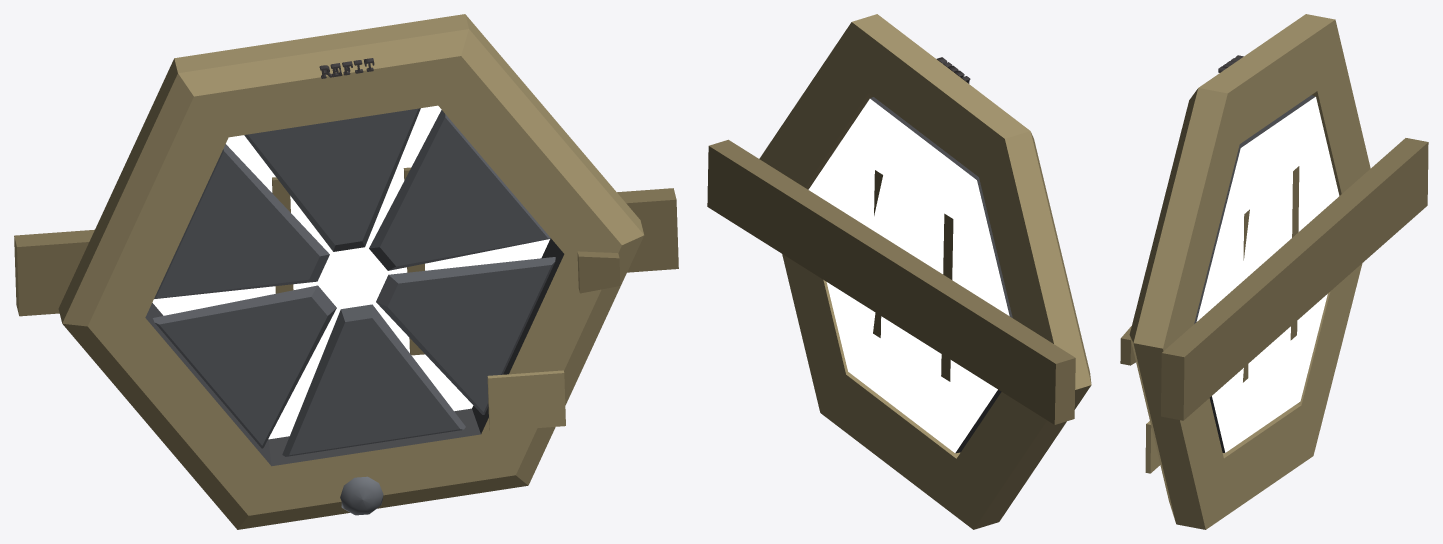
The model's file is refit.glb.
The picture shows the model from 3 angles, left to right: view 1: azimuth 30°, elevation 25°; view 2: azimuth 150°, elevation 25°; view 3: azimuth 270°, elevation 25°; orthographic projection. The views are drawn at different scales.
Visible parts, largest first — view 1: dnsm_refit_frame, dnsm_refit_leaf_4, dnsm_refit_leaf_3, dnsm_refit_leaf_5, dnsm_refit_leaf_0, dnsm_refit_leaf_2, dnsm_refit_leaf_1, dnsm_refit_glow, dnsm_refit_srail, dnsm_refit_throat, dnsm_refit_tally, dnsm_refit_detent (+1 smaller); view 2: dnsm_refit_frame, dnsm_refit_glow, dnsm_refit_srail, dnsm_refit_throat, dnsm_refit_guide_0; view 3: dnsm_refit_frame, dnsm_refit_srail, dnsm_refit_glow, dnsm_refit_throat, dnsm_refit_guide_0, dnsm_refit_tally, dnsm_refit_detent.
Boxes of the visible parts, x1,y1,x2,y2 form: dnsm_refit_frame: [58, 14, 644, 529]; dnsm_refit_leaf_4: [282, 304, 465, 456]; dnsm_refit_leaf_3: [153, 285, 336, 448]; dnsm_refit_leaf_5: [376, 257, 555, 414]; dnsm_refit_leaf_0: [369, 110, 550, 270]; dnsm_refit_leaf_2: [154, 144, 329, 298]; dnsm_refit_leaf_1: [244, 108, 420, 251]; dnsm_refit_glow: [152, 105, 549, 439]; dnsm_refit_srail: [14, 188, 678, 316]; dnsm_refit_throat: [145, 239, 564, 466]; dnsm_refit_tally: [487, 370, 565, 431]; dnsm_refit_detent: [577, 251, 620, 293]; dnsm_refit_frame: [759, 14, 1091, 529]; dnsm_refit_glow: [808, 99, 1009, 452]; dnsm_refit_srail: [707, 139, 1075, 424]; dnsm_refit_throat: [870, 97, 1012, 453]; dnsm_refit_guide_0: [941, 213, 953, 381]; dnsm_refit_frame: [1129, 14, 1370, 529]; dnsm_refit_srail: [1161, 138, 1428, 420]; dnsm_refit_glow: [1196, 97, 1339, 452]; dnsm_refit_throat: [1194, 95, 1315, 452]; dnsm_refit_guide_0: [1290, 166, 1299, 340]; dnsm_refit_tally: [1145, 421, 1160, 473]; dnsm_refit_detent: [1120, 326, 1135, 365].
Bounding box in the file's own units: 0.0407 × 0.0356 × 0.0224.
